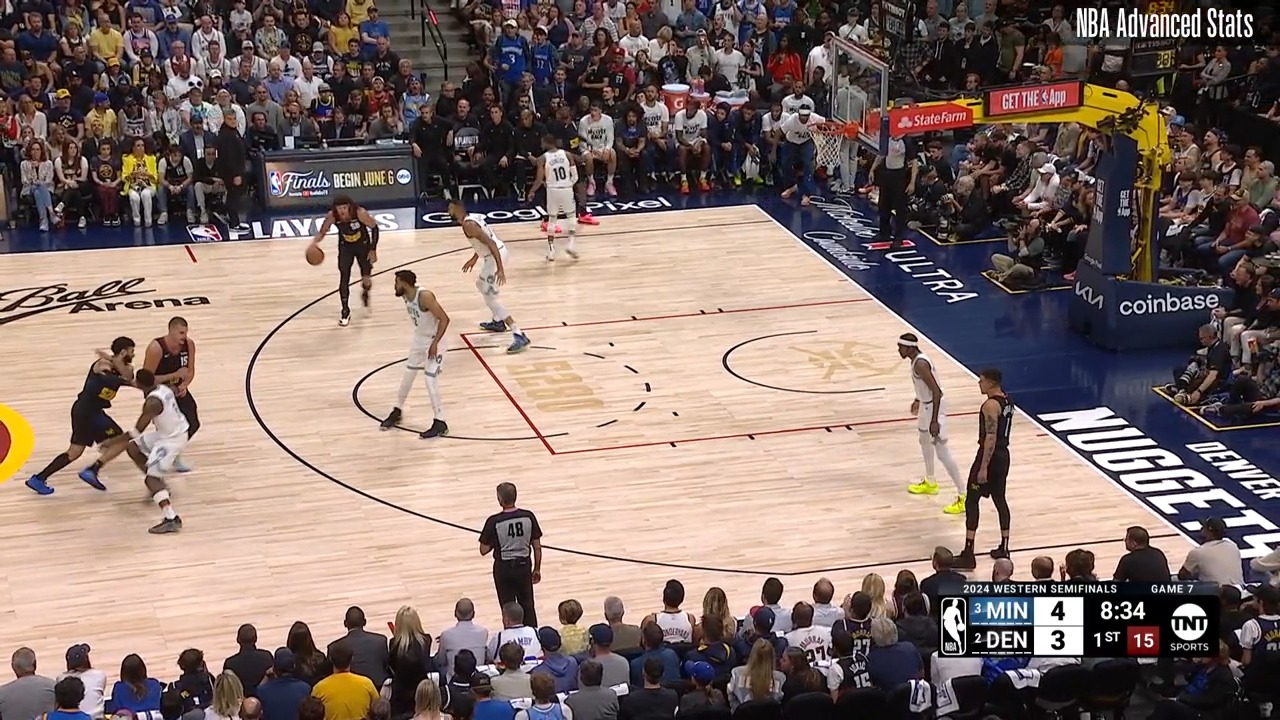basketball: (304, 245, 326, 267)
